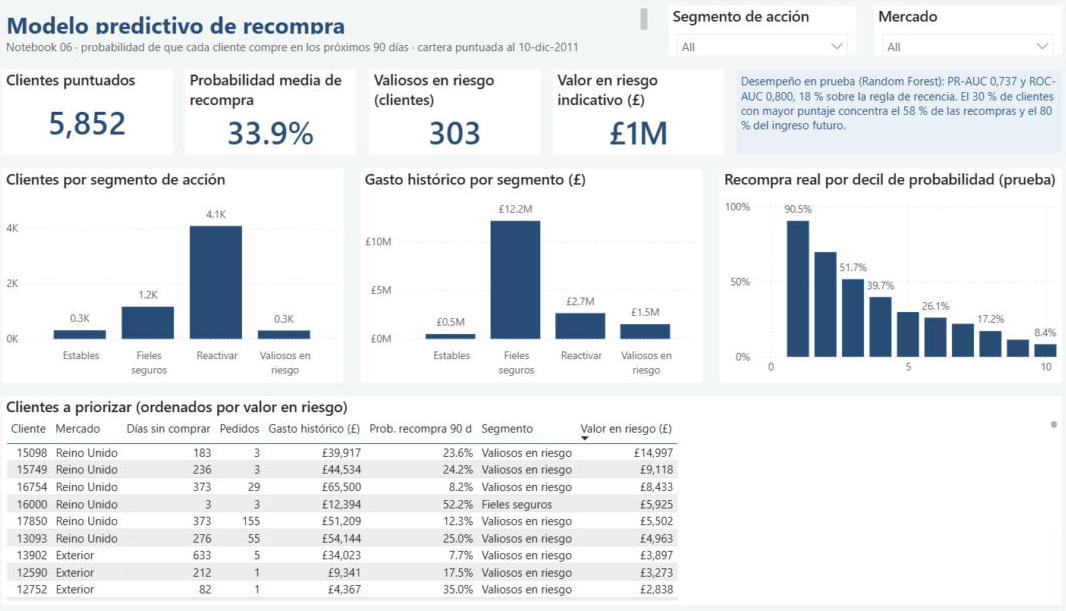

Layout of this report page (visuals, bound fields, positions):
{"tool":"powerbi","page":{"name":"Modelo predictivo","canvas":[1280,720],"ordinal":6},"visuals":[{"type":"textbox","box":[20,8,760,40],"z":2000},{"type":"textbox","box":[20,44,760,28],"z":3000},{"type":"slicer","title":"Segmento de acción","fields":{"Values":["scoring_clientes.segmento_accion"]},"box":[800,10,220,58],"z":4000},{"type":"slicer","title":"Mercado","fields":{"Values":["scoring_clientes.pais_grupo_cliente"]},"box":[1040,10,220,58],"z":5000},{"type":"card","title":"Clientes puntuados","fields":{"Values":["_Medidas.Clientes Puntuados"]},"box":[20,84,200,100],"z":6000},{"type":"card","title":"Probabilidad media de recompra","fields":{"Values":["_Medidas.Prob Recompra Media"]},"box":[235,84,200,100],"z":7000},{"type":"card","title":"Valiosos en riesgo (clientes)","fields":{"Values":["_Medidas.Clientes Valiosos en Riesgo"]},"box":[450,84,200,100],"z":8000},{"type":"card","title":"Valor en riesgo indicativo (£)","fields":{"Values":["_Medidas.Valor en Riesgo"]},"box":[665,84,200,100],"z":9000},{"type":"textbox","box":[880,84,380,100],"z":10000},{"type":"clusteredColumnChart","title":"Clientes por segmento de acción","fields":{"Category":["scoring_clientes.segmento_accion"],"Y":["_Medidas.Clientes Puntuados"]},"box":[20,200,400,250],"z":11000},{"type":"clusteredColumnChart","title":"Gasto histórico por segmento (£)","fields":{"Category":["scoring_clientes.segmento_accion"],"Y":["_Medidas.Gasto Historico Puntuados"]},"box":[440,200,400,250],"z":12000},{"type":"clusteredColumnChart","title":"Recompra real por decil de probabilidad (prueba)","fields":{"Category":["ganancia_deciles.decil"],"Y":["_Medidas.Recompra Real por Decil"]},"box":[860,200,400,250],"z":13000},{"type":"tableEx","title":"Clientes a priorizar (ordenados por valor en riesgo)","fields":{"Values":["scoring_clientes.cliente_key","scoring_clientes.pais_grupo_cliente","scoring_clientes.recencia","scoring_clientes.frecuencia","scoring_clientes.monetario","scoring_clientes.prob_recompra_90d","scoring_clientes.segmento_accion","scoring_clientes.valor_en_riesgo"]},"box":[20,466,1240,244],"z":14000}]}

Visuals, with their boxes in screenshot pixels (x1, y1, x2, y2), scaled from the page's 1280x720 canvas onto the 1066x611 screenshot:
textbox: [17,7,650,41]
textbox: [17,37,650,61]
"Segmento de acción" slicer: [666,8,849,58]
"Mercado" slicer: [866,8,1049,58]
"Clientes puntuados" card: [17,71,183,156]
"Probabilidad media de recompra" card: [196,71,362,156]
"Valiosos en riesgo (clientes)" card: [375,71,541,156]
"Valor en riesgo indicativo (£)" card: [554,71,720,156]
textbox: [733,71,1049,156]
"Clientes por segmento de acción" clusteredColumnChart: [17,170,350,382]
"Gasto histórico por segmento (£)" clusteredColumnChart: [366,170,700,382]
"Recompra real por decil de probabilidad (prueba)" clusteredColumnChart: [716,170,1049,382]
"Clientes a priorizar (ordenados por valor en riesgo)" tableEx: [17,395,1049,603]
